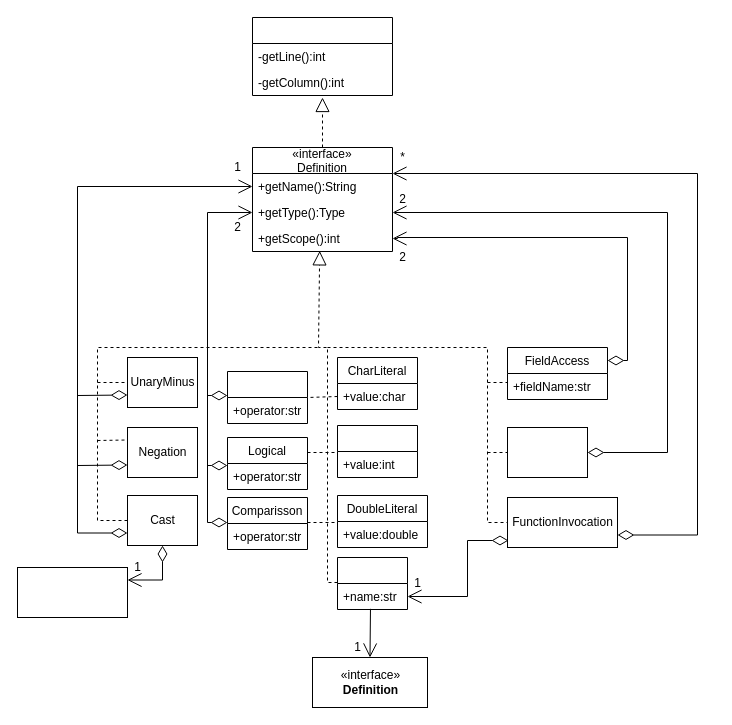
This 732x725 diagram has some shape labels left out. Each missing label, with the box of its shape:
Arithmetic: (226, 370, 308, 424)
ArrayAccess: (506, 426, 588, 478)
IntLiteral: (336, 424, 418, 478)
Variable: (336, 556, 408, 610)
«interface» ASTNode: (252, 16, 392, 96)
«interface» Type: (16, 566, 128, 618)
